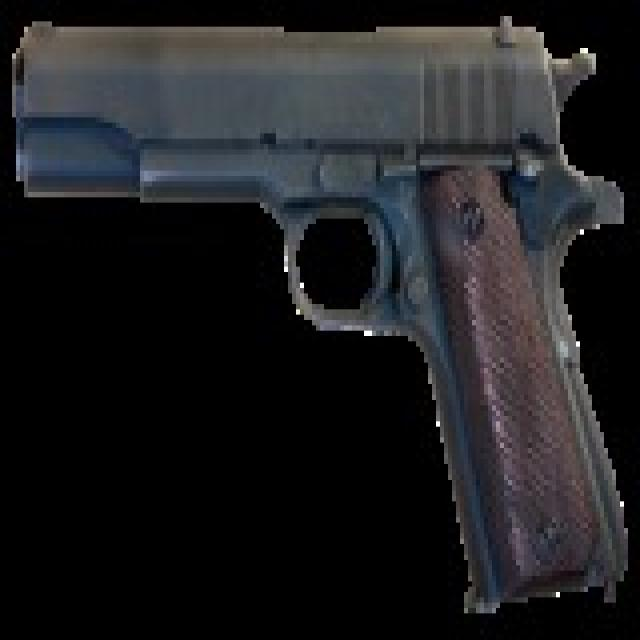Gun: (10, 14, 634, 610)
